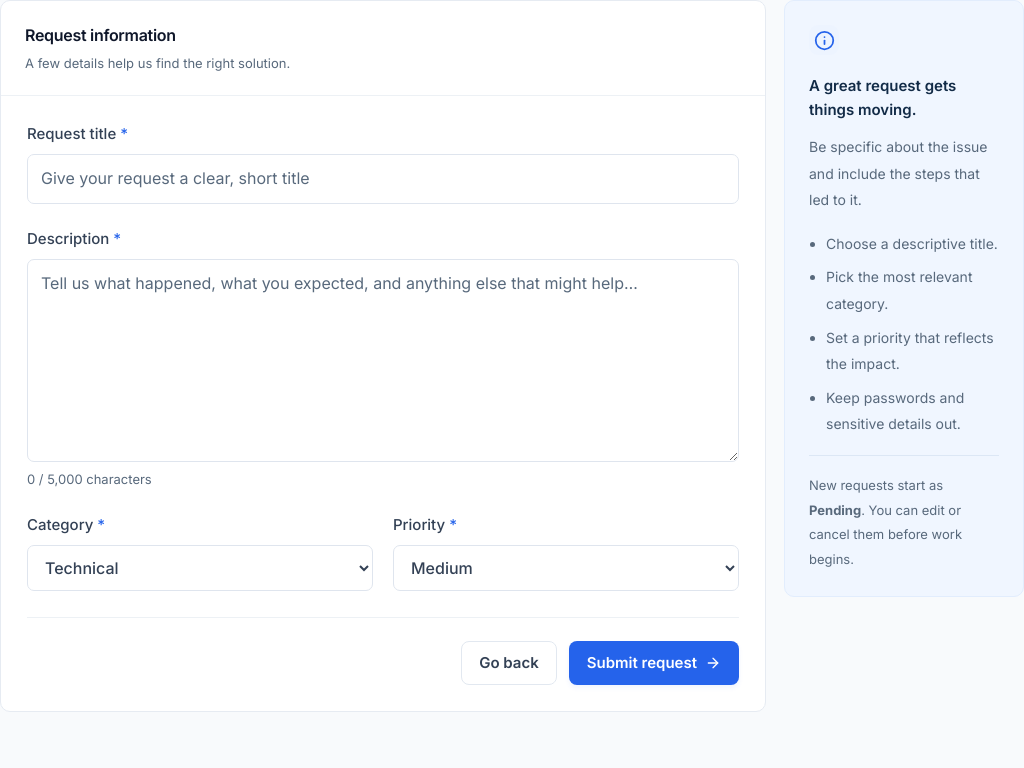
it: validation boundaries and feedback › validates a touched request field before submitting
Click the field labelled "Request title *" at coordinates (383, 179), box [27,154,739,204]
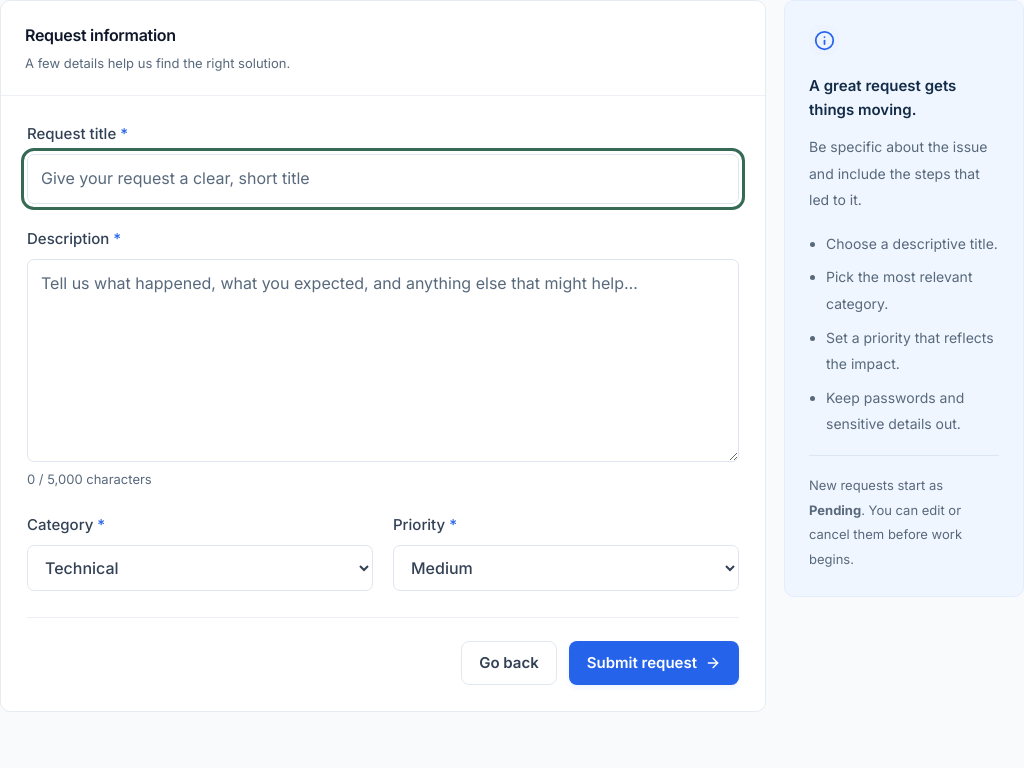
Press Tab
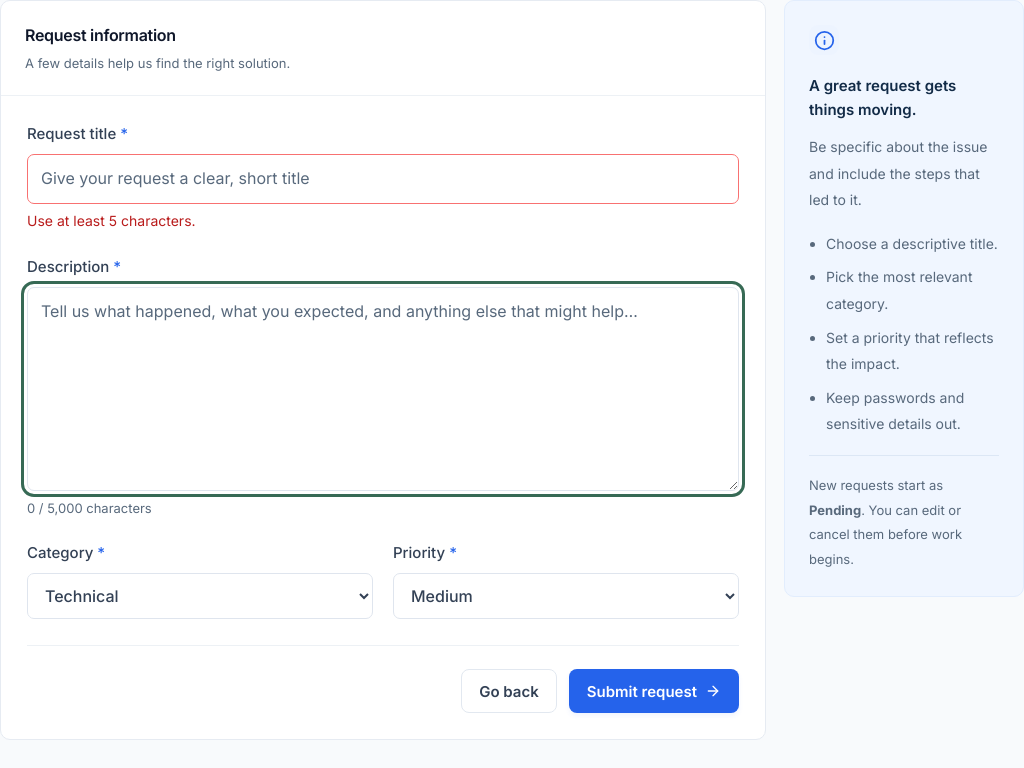
Expected: the text "Use at least 5 characters." is shown, [27,212,196,229]
